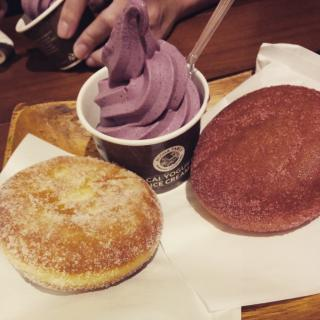Ice cream: (92, 0, 202, 142), (20, 0, 57, 21)
